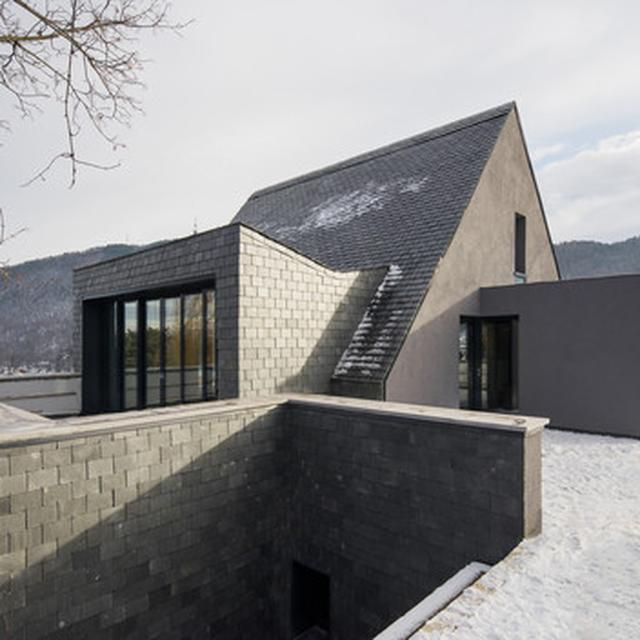building: (0, 99, 566, 640)
